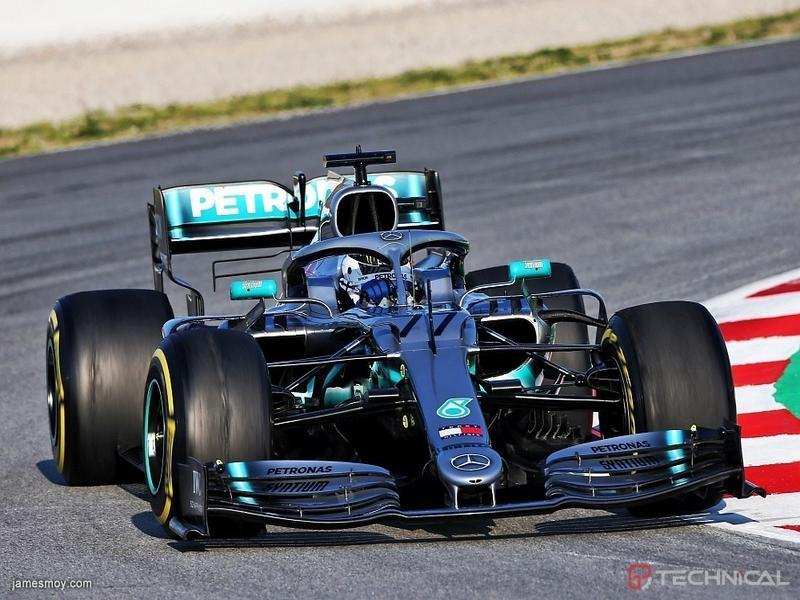f1: (68, 146, 734, 556)
